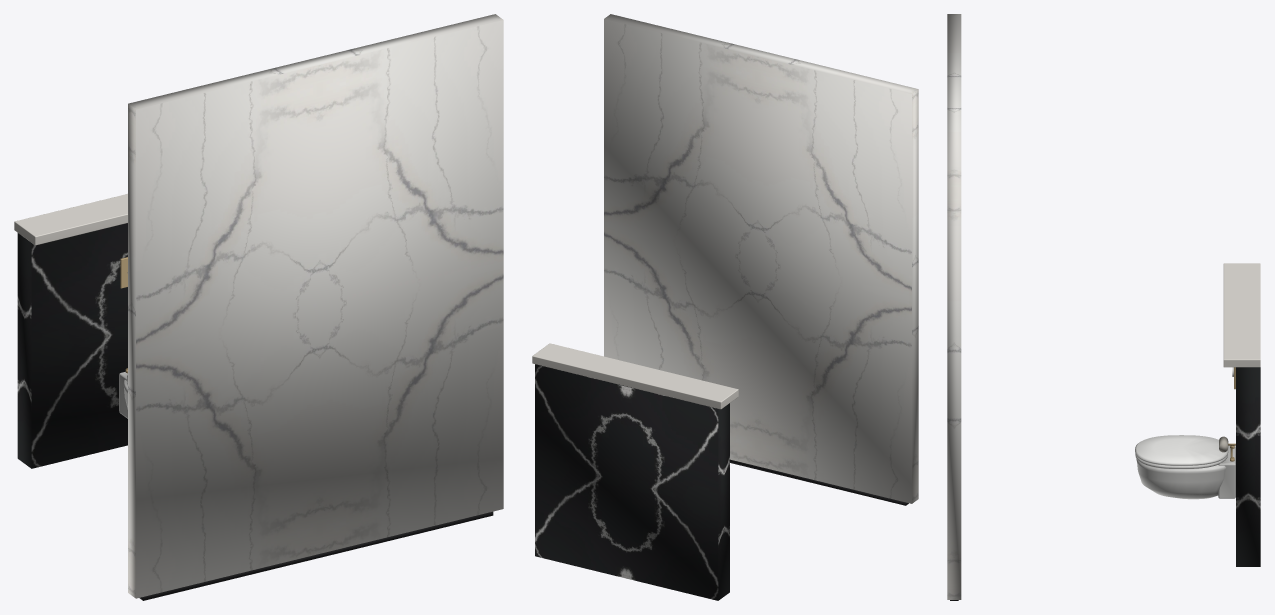
The model's file is bath_toilet.gltf.
3 renders of one model, left to right at view 1: azimuth 30°, elevation 25°; view 2: azimuth 150°, elevation 25°; view 3: azimuth 270°, elevation 25°, orthographic. The views are drawn at different scales.
Parts seen in each view (by area): view 1: BathToilet_Partition, BathToilet_ServiceWall, BathToilet_PipingLedge, BathToilet_PipingFoot; view 2: BathToilet_Partition, BathToilet_ServiceWall, BathToilet_PipingLedge, BathToilet_PipingFoot; view 3: BathToilet_Partition, BathToilet_Ceramic, BathToilet_ServiceWall, BathToilet_PipingLedge.
Boxes of the visible parts, x1,y1,x2,y2 form: BathToilet_Partition: [128, 14, 503, 598]; BathToilet_ServiceWall: [17, 223, 127, 468]; BathToilet_PipingLedge: [14, 194, 127, 245]; BathToilet_PipingFoot: [139, 511, 493, 600]; BathToilet_Partition: [604, 14, 918, 503]; BathToilet_ServiceWall: [535, 364, 729, 600]; BathToilet_PipingLedge: [532, 343, 738, 409]; BathToilet_PipingFoot: [730, 459, 908, 505]; BathToilet_Partition: [947, 14, 961, 599]; BathToilet_Ceramic: [1135, 367, 1235, 499]; BathToilet_ServiceWall: [1236, 367, 1260, 566]; BathToilet_PipingLedge: [1223, 263, 1260, 367].
Bounding box in the file's own units: 2.1 × 2.7 × 1.77.
7 materials, 2 textured.
